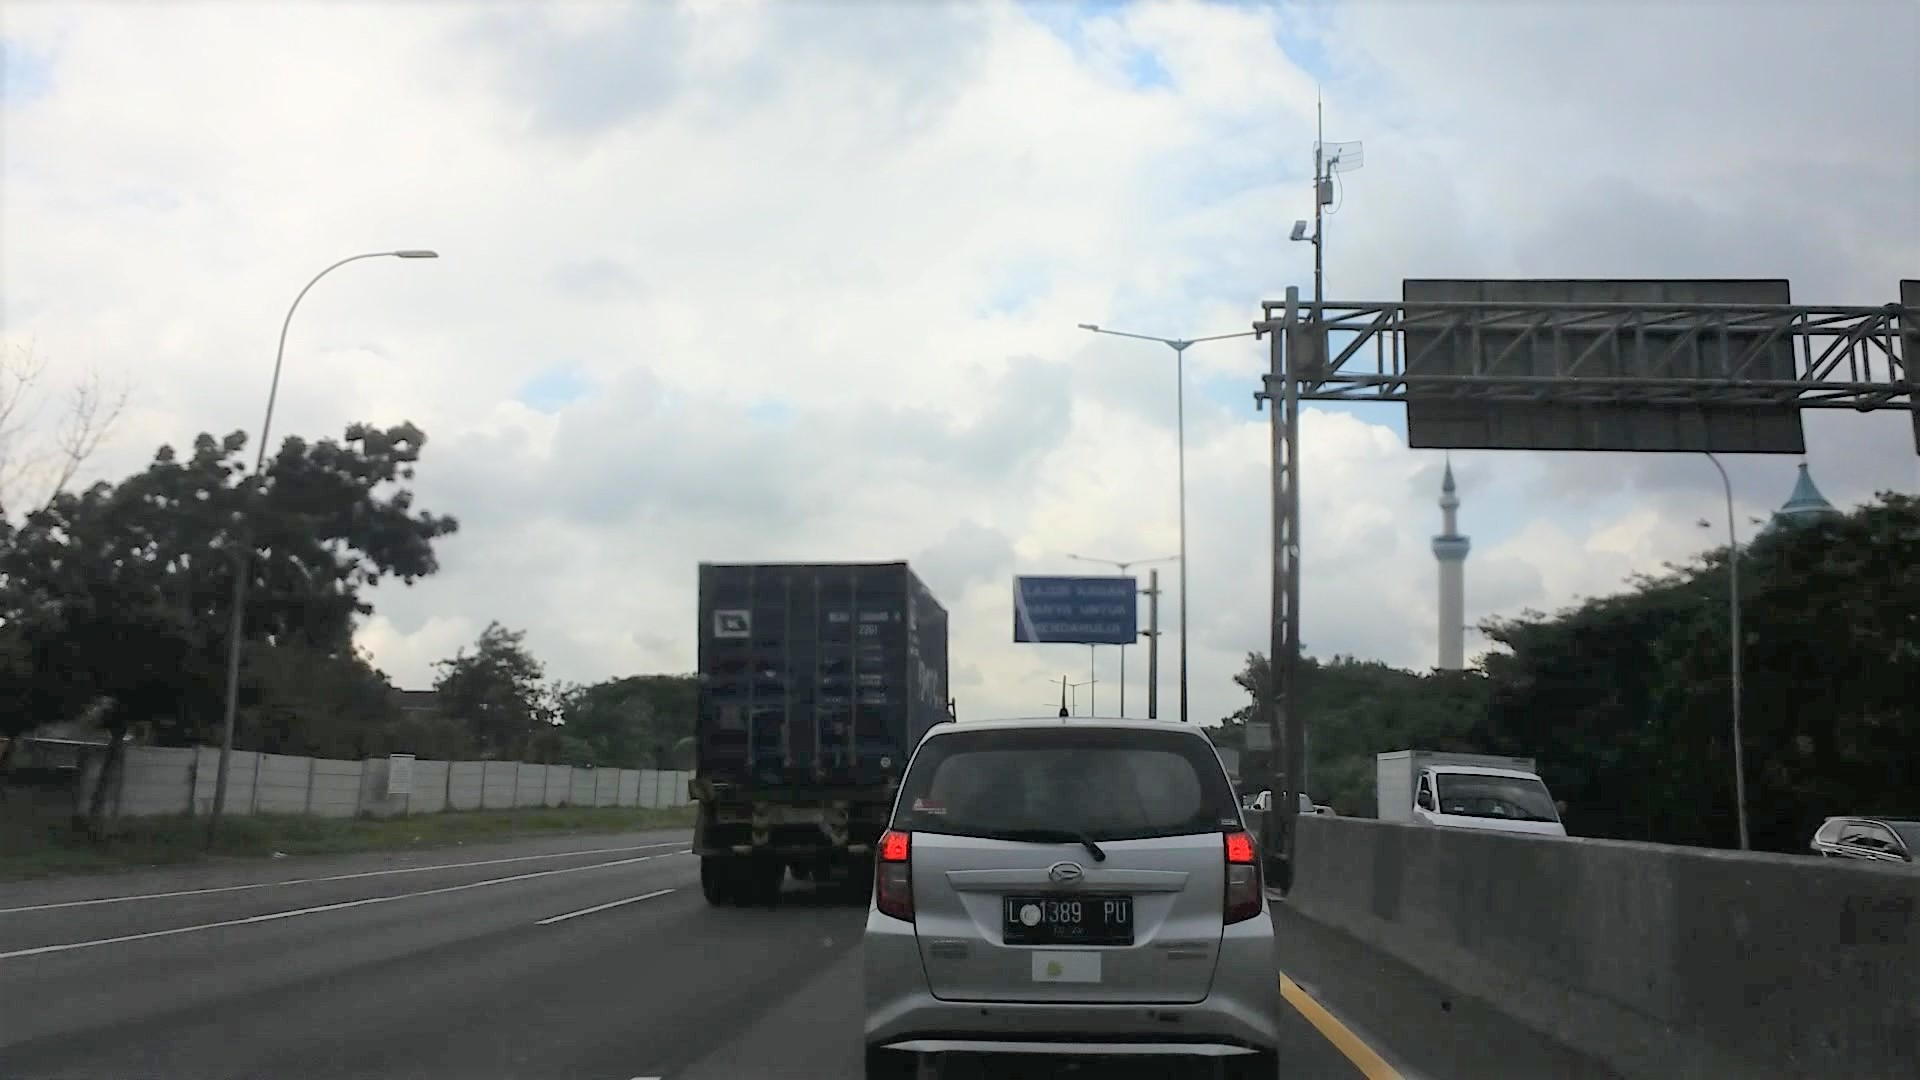plate_positive: (1002, 894, 1133, 944)
